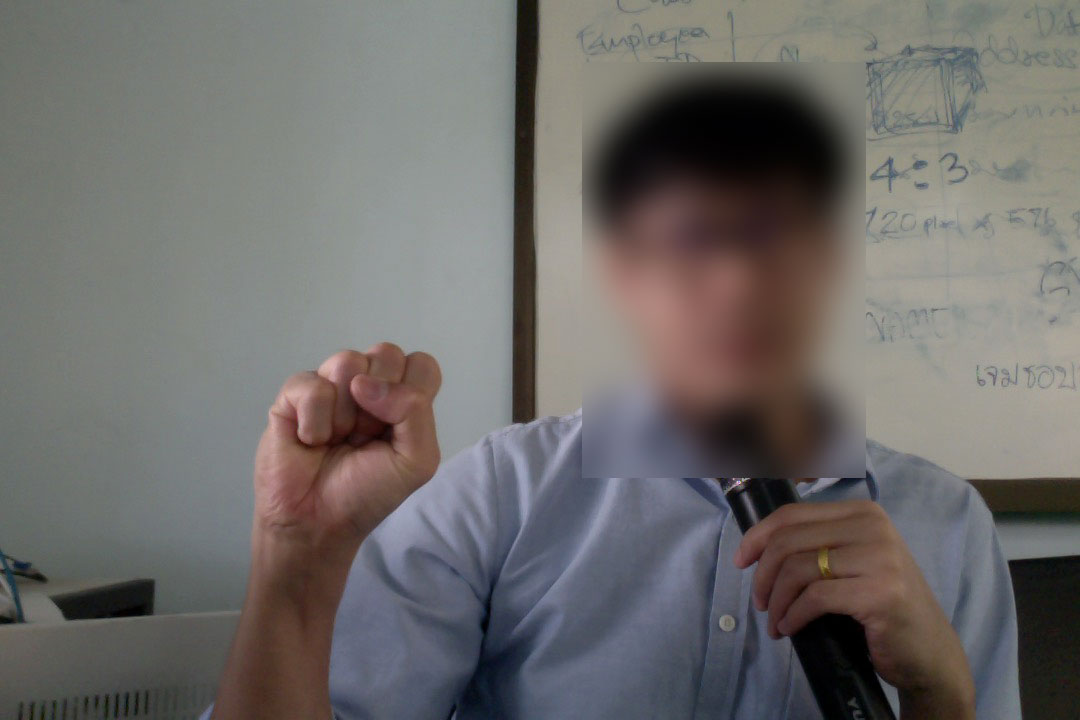sor: (241, 336, 447, 579)
